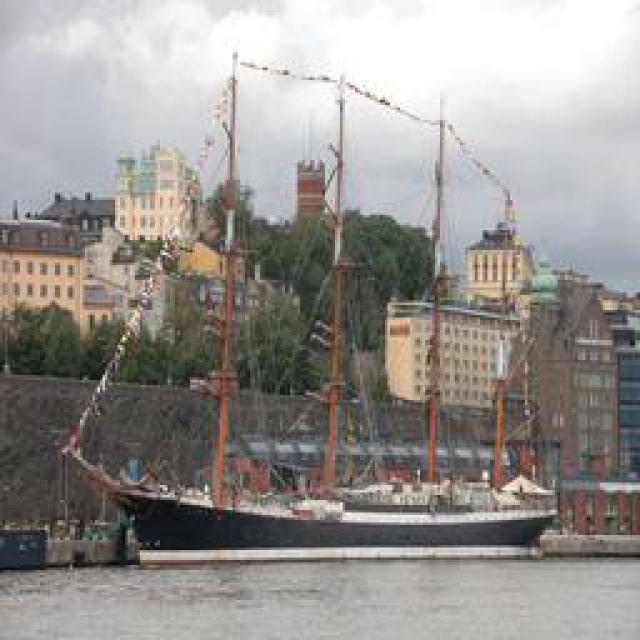Ship: (67, 465, 565, 560)
